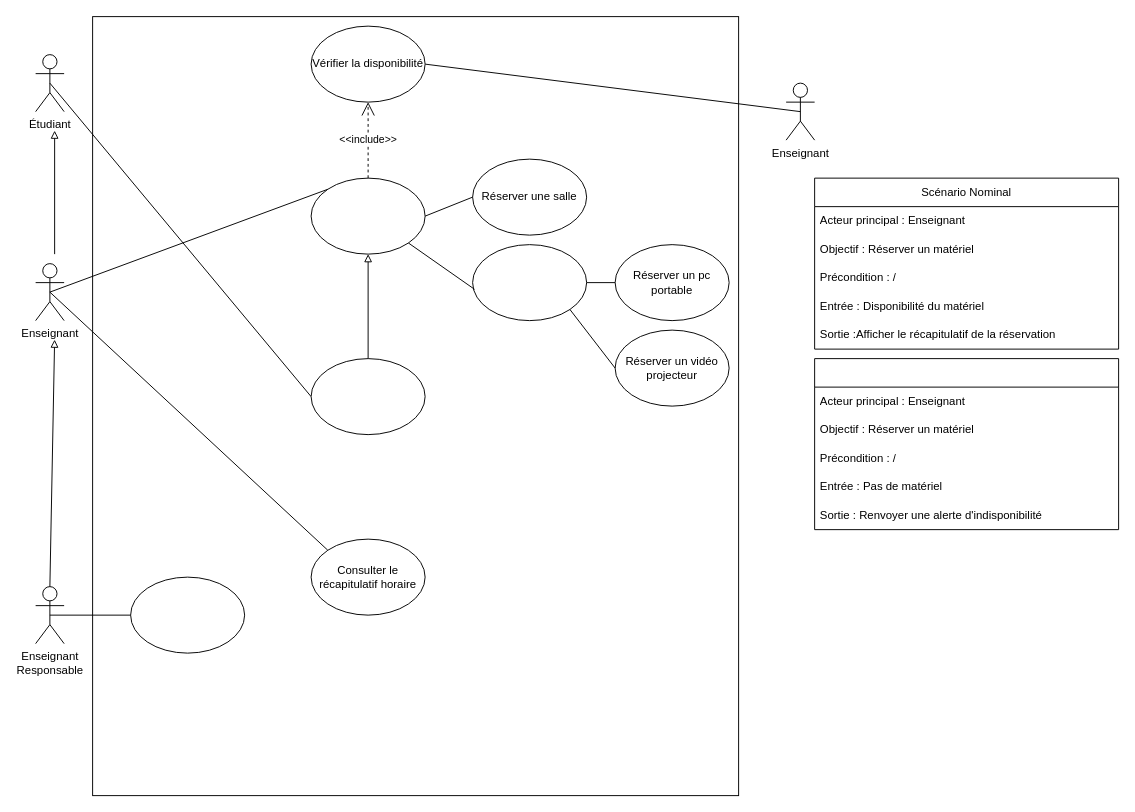
Some shapes in this 1135 by 812 pixel diagram are drawn without their labels. Here are the shapes that lost their labels. From the top down, the box of each, then its label:
(310, 177, 425, 254): Effectuer une réservation
(472, 244, 587, 321): Réserver un matériel
(310, 358, 425, 435): Consulter le planning des salles
(814, 358, 1119, 530): Scénario en Erreur
(130, 576, 245, 653): Éditer le récapitulatif horaire
